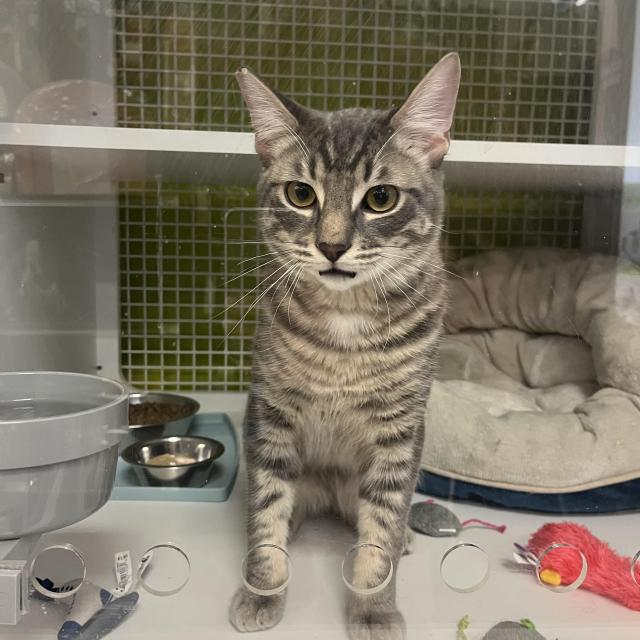american_shorthair_cat: (228, 44, 472, 311)
